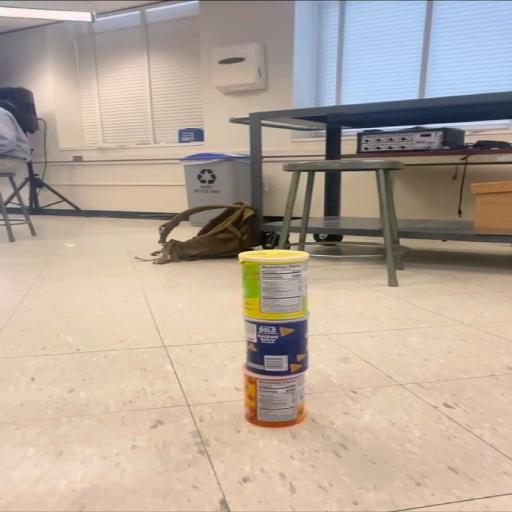pringle can: (238, 250, 312, 316), (242, 368, 308, 431), (245, 318, 308, 375)
